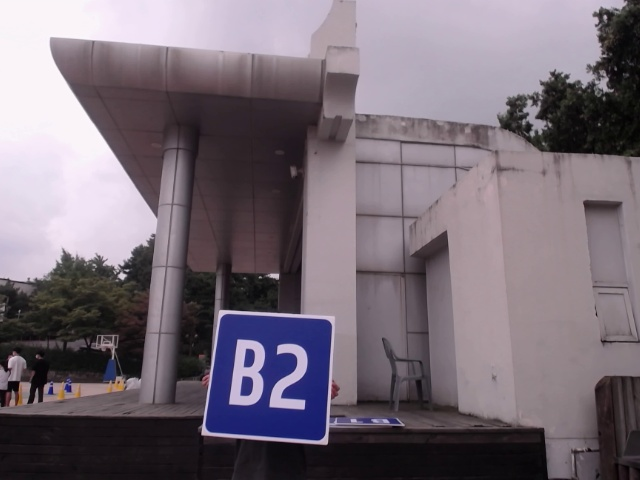delivery_b2: (206, 313, 332, 443)
